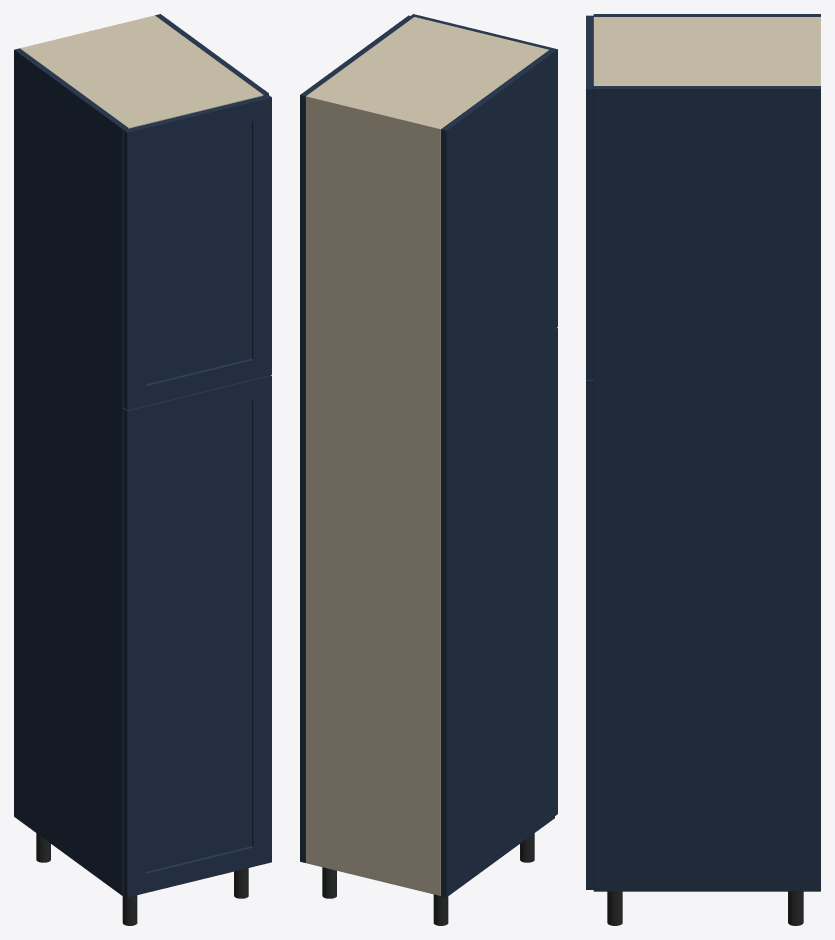
File: oppein-ply-bss-pc1890.glb
3 renders of one model, left to right at view 1: azimuth 30°, elevation 25°; view 2: azimuth 150°, elevation 25°; view 3: azimuth 270°, elevation 25°, orthographic. The views are drawn at different scales.
Parts seen in each view (by area): view 1: Cabinet side, Door, Door.001, Cabinet top, Cabinet side.001; view 2: Cabinet back, Cabinet side, Cabinet top, Cabinet side.001, Door, Door.001; view 3: Cabinet side.001, Cabinet top, Door, Door.001, Cabinet side, Adjustable foot.002, Adjustable foot.003.
Part boxes in pixels (box(x1,y1,x2,y2)): Cabinet side: box(14, 48, 128, 895); Door: box(123, 375, 271, 897); Door.001: box(123, 95, 271, 409); Cabinet top: box(22, 17, 263, 128); Cabinet side.001: box(155, 14, 268, 95); Cabinet back: box(306, 95, 442, 895); Cabinet side: box(441, 50, 554, 897); Cabinet top: box(306, 17, 548, 133); Cabinet side.001: box(300, 15, 413, 862); Door: box(555, 327, 557, 815); Door.001: box(411, 14, 557, 328); Cabinet side.001: box(593, 86, 820, 891); Cabinet top: box(593, 17, 816, 85); Door: box(586, 379, 593, 889); Door.001: box(586, 15, 593, 379); Cabinet side: box(593, 14, 820, 16); Adjustable foot.002: box(788, 891, 803, 925); Adjustable foot.003: box(607, 891, 622, 925).
Bounding box in the file's own units: 0.4572 × 2.4 × 0.6064.
